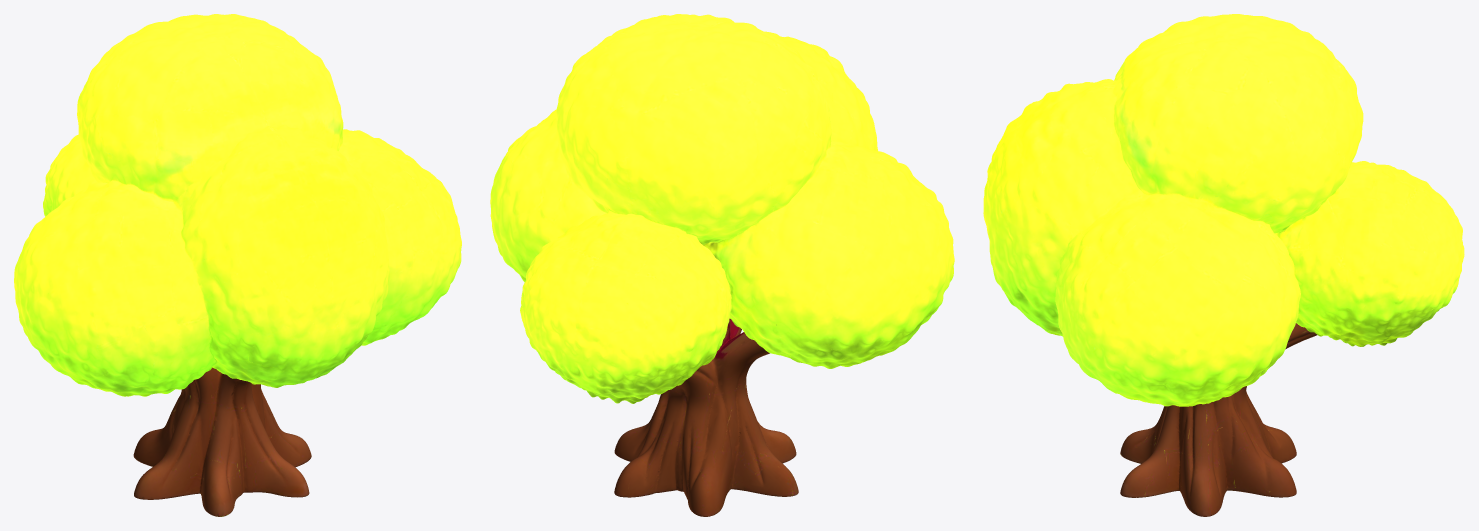
The model's file is tree1_final.glb.
3 views of the same model, side by side, from view 1: azimuth 30°, elevation 25°; view 2: azimuth 150°, elevation 25°; view 3: azimuth 270°, elevation 25° (orthographic). The views are drawn at different scales.
Bounding box in the file's own units: 1.9 × 1.9 × 1.88.
Materials: 1 (1 with a texture image).
